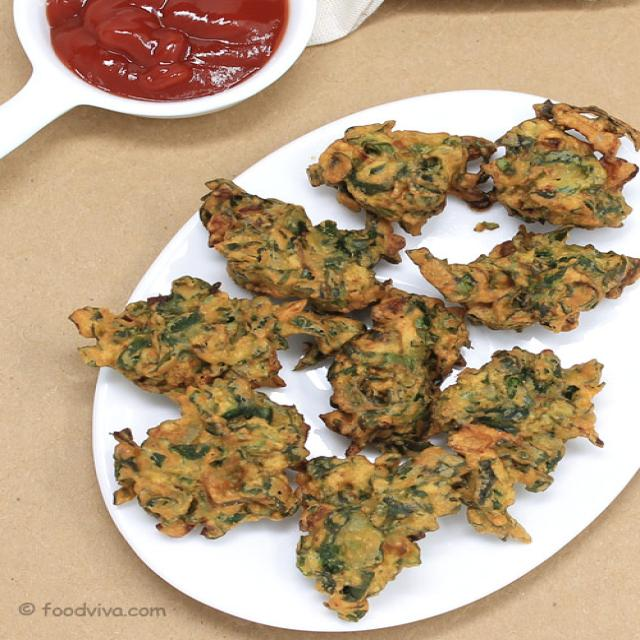pakoda: (156, 135, 604, 576)
